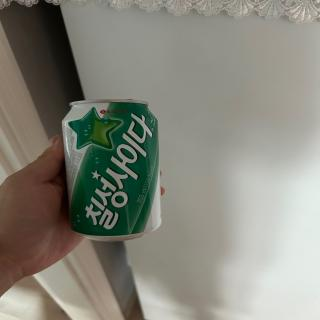chilsung: (60, 96, 164, 244)
